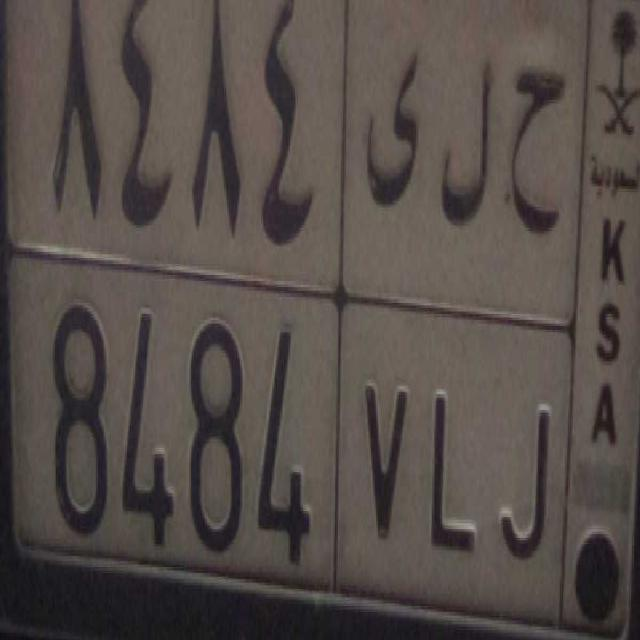license_plate: (32, 251, 557, 640)
